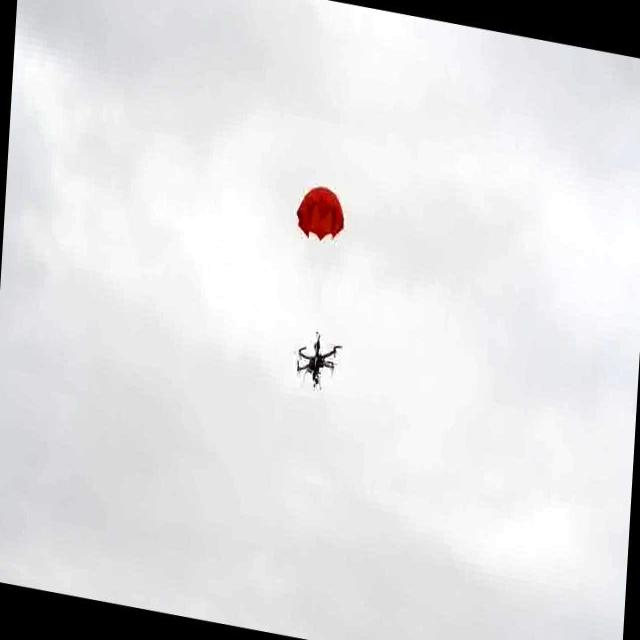drone: (288, 329, 342, 395)
